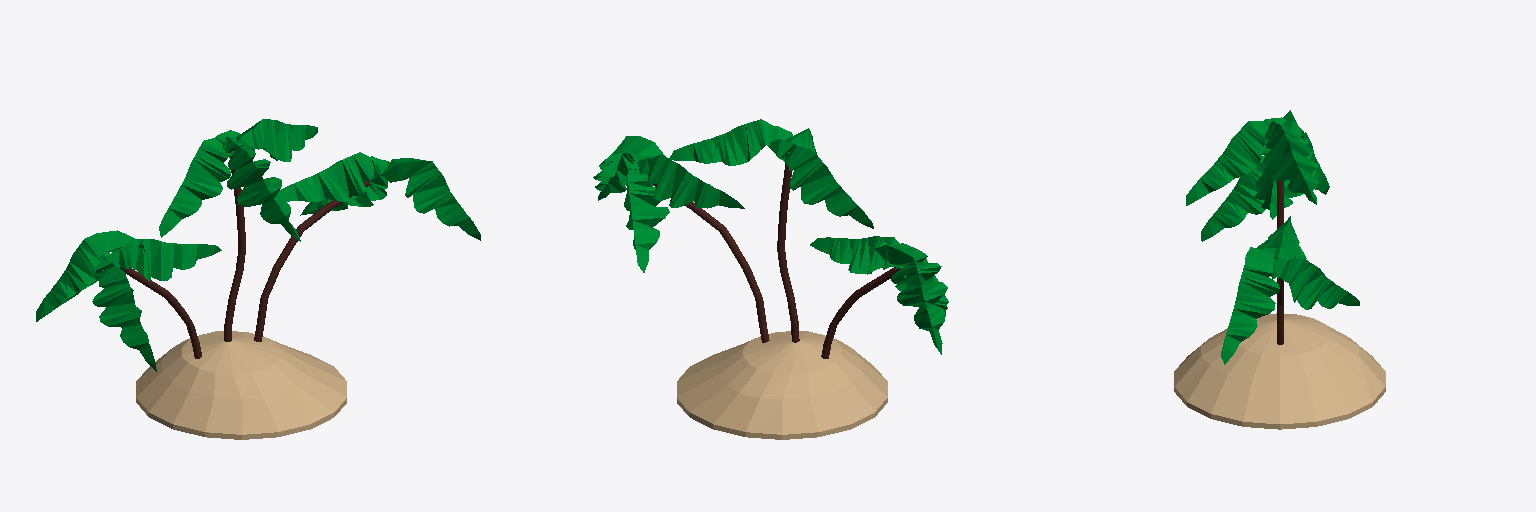
3 renders of one model, left to right at view 1: azimuth 30°, elevation 25°; view 2: azimuth 150°, elevation 25°; view 3: azimuth 270°, elevation 25°, orthographic.
Visible parts, largest first — view 1: Sand, Object001, Object002, Object003, Tree002, Tree001, Tree003; view 2: Sand, Object003, Object002, Object001, Tree001, Tree002, Tree003; view 3: Sand, Object003, Object002, Object001.
Part boxes in pixels (x1,y1,x2,y2): Sand: (136, 331, 346, 439); Object001: (36, 230, 221, 371); Object002: (159, 119, 317, 241); Object003: (275, 152, 480, 240); Tree002: (254, 181, 370, 341); Tree001: (224, 156, 245, 341); Tree003: (120, 268, 201, 358); Sand: (677, 331, 887, 439); Object003: (593, 136, 744, 272); Object002: (669, 119, 873, 228); Object001: (810, 236, 948, 354); Tree001: (777, 162, 799, 342); Tree002: (653, 184, 769, 342); Tree003: (821, 267, 900, 358); Sand: (1174, 313, 1385, 429); Object003: (1221, 216, 1359, 364); Object002: (1186, 110, 1319, 205); Object001: (1201, 132, 1329, 241).
Size of the model in its own units: 18.7 by 12.26 by 8.67.
Materials: 3 (3 with a texture image).